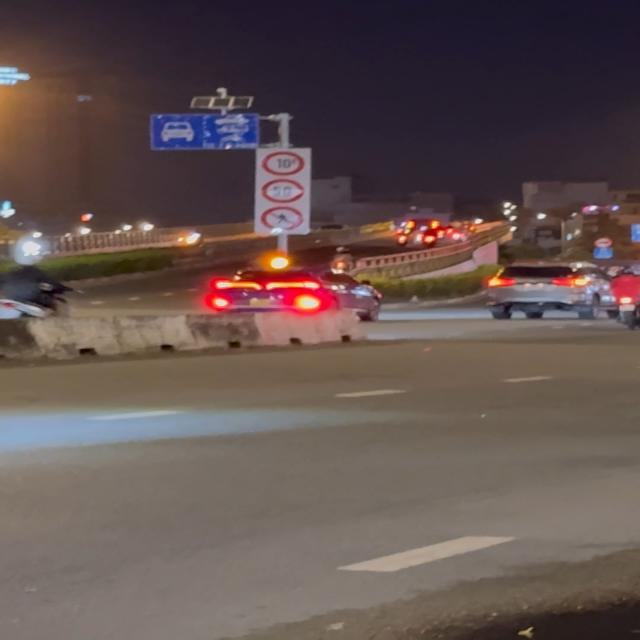Bien bao cam nguoi di bo: (261, 205, 305, 230)
Bien bao toc do toi da cho phep: (258, 177, 310, 204)
